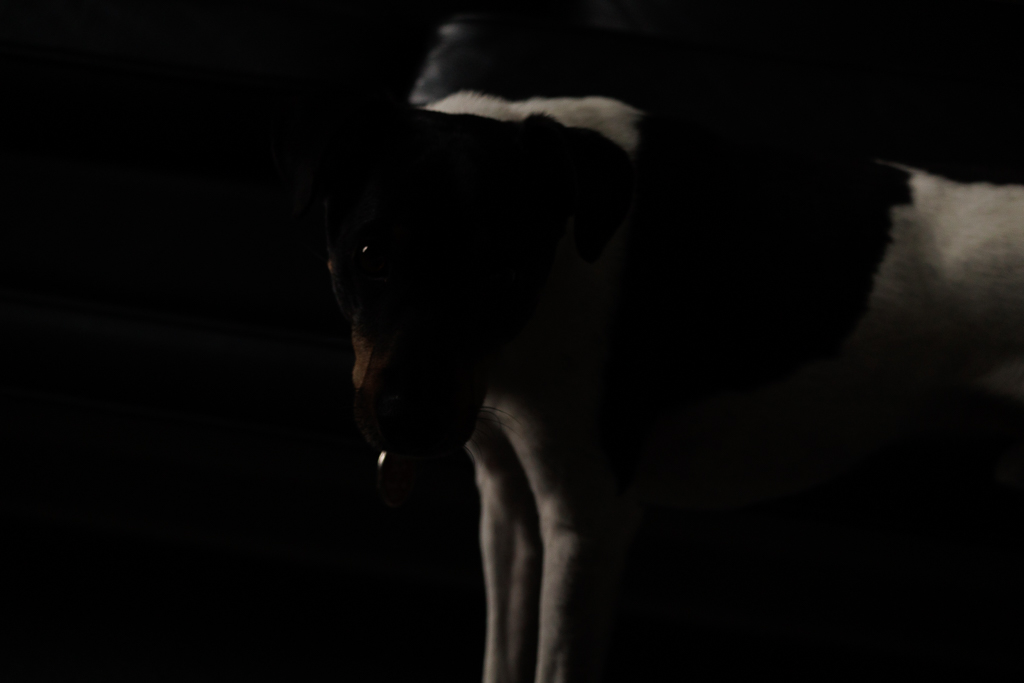Dog: (252, 66, 1023, 682)
